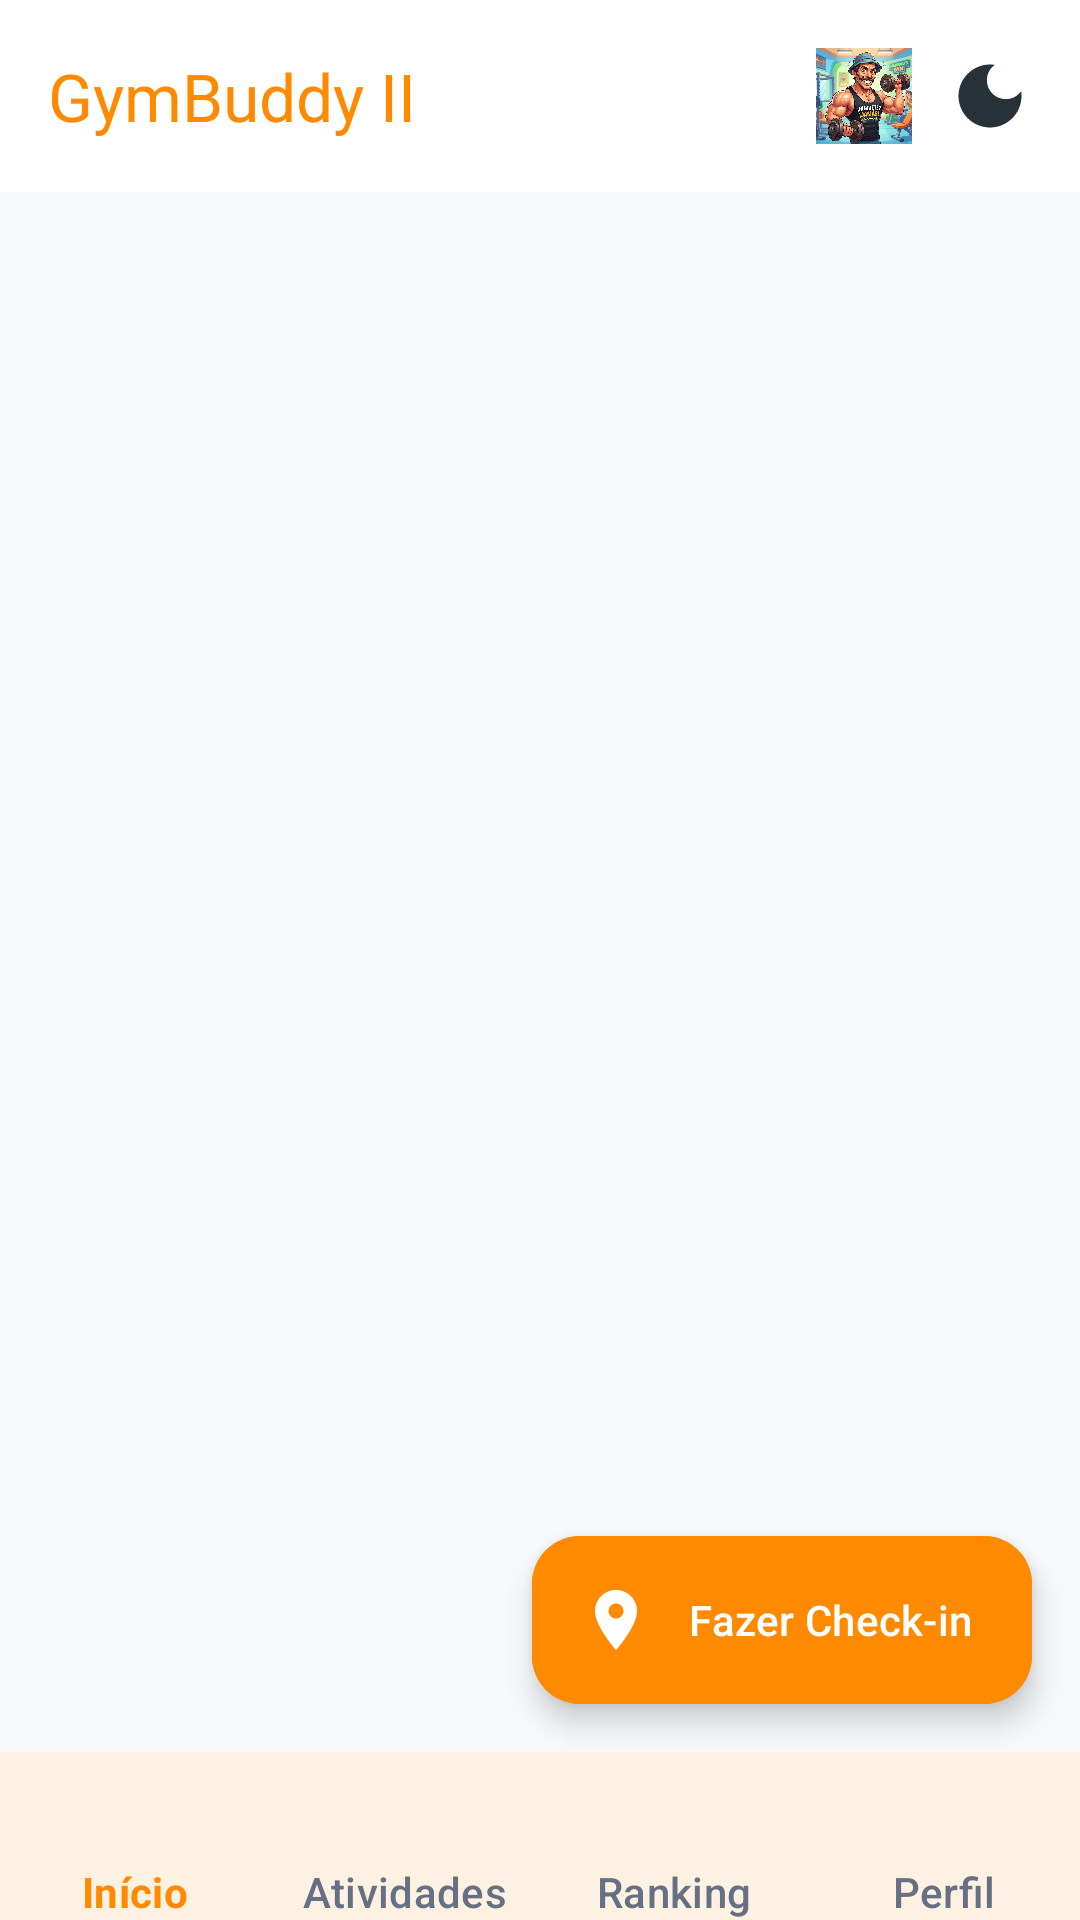

Where to tap for icons on this 1080 × 1920 app screen, as [x,y]:
Alterar Tema: [990,96]
Mascote: [864,96]
